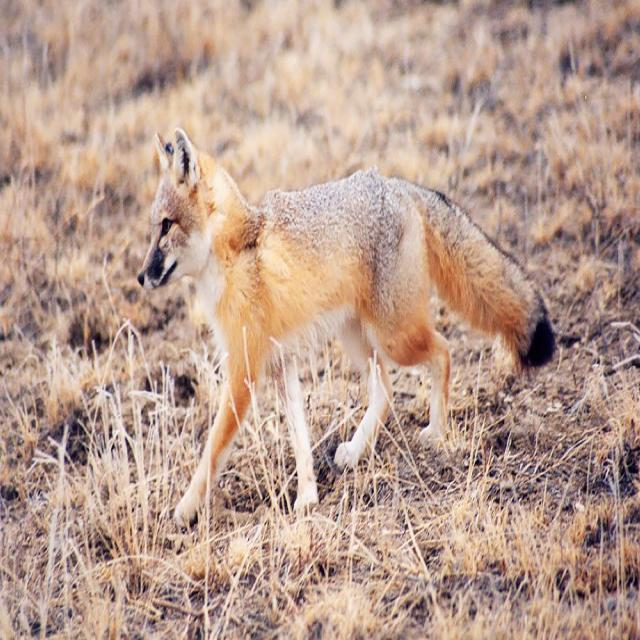fox: (137, 125, 556, 532)
